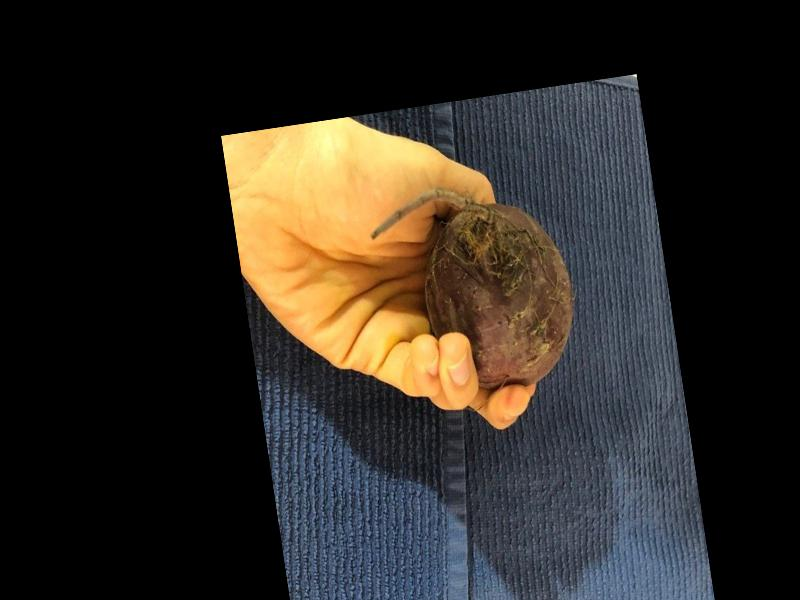Beet: (363, 173, 583, 405)
